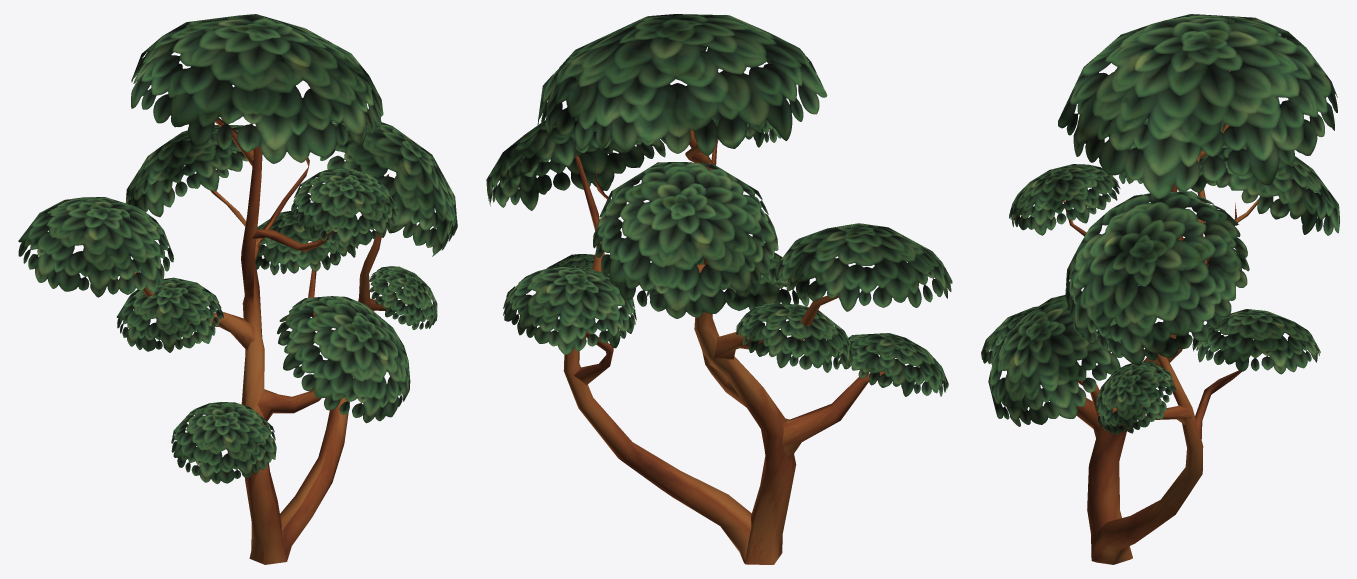
The model's file is Deciduous_tree_large.fbx.
The picture shows the model from 3 angles, left to right: view 1: azimuth 30°, elevation 25°; view 2: azimuth 150°, elevation 25°; view 3: azimuth 270°, elevation 25°; orthographic projection. The views are drawn at different scales.
Parts seen in each view (by area): view 1: Deciduous_tree_large; view 2: Deciduous_tree_large; view 3: Deciduous_tree_large.
Boxes of the visible parts, x1,y1,x2,y2 form: Deciduous_tree_large: (18,14,457,564); Deciduous_tree_large: (486,14,952,564); Deciduous_tree_large: (981,14,1339,564).
Size of the model in its own units: 852 by 990 by 606.
